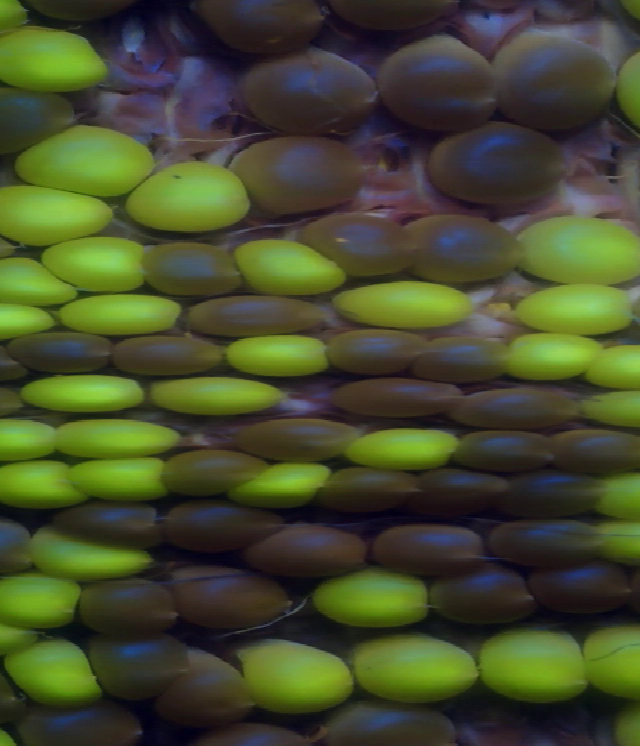fluorescent: (226, 631, 355, 715), (476, 626, 592, 709), (342, 632, 481, 700), (127, 163, 249, 234), (17, 129, 154, 191), (516, 223, 640, 288), (0, 22, 108, 96), (507, 279, 640, 338), (1, 638, 107, 711), (331, 279, 477, 331), (26, 522, 157, 579), (55, 289, 189, 342), (0, 180, 113, 240), (16, 371, 153, 417), (151, 372, 289, 416), (235, 238, 336, 298), (347, 421, 463, 473), (48, 237, 156, 292), (314, 572, 426, 623), (227, 332, 336, 383), (71, 456, 175, 509), (242, 460, 334, 516), (505, 333, 609, 381), (54, 418, 178, 458), (581, 620, 640, 704), (0, 570, 88, 626), (0, 459, 91, 506), (0, 416, 76, 471), (0, 257, 67, 306), (585, 340, 640, 390), (0, 303, 62, 347), (596, 472, 640, 521), (594, 521, 640, 565), (0, 605, 36, 661), (584, 395, 640, 429), (0, 1, 34, 39)
nonfluorescent: (424, 115, 551, 211), (380, 40, 500, 134), (240, 55, 382, 133), (488, 36, 616, 122), (79, 620, 191, 705), (165, 559, 293, 627), (408, 215, 527, 283), (157, 651, 262, 727), (198, 1, 334, 59), (236, 144, 363, 206), (313, 206, 421, 278), (73, 575, 184, 635), (245, 525, 376, 575), (367, 526, 498, 571), (454, 390, 584, 433), (192, 297, 333, 336), (334, 381, 465, 422), (527, 566, 636, 615), (159, 505, 277, 550), (144, 243, 240, 296), (8, 329, 125, 372), (330, 706, 455, 746), (430, 569, 537, 615), (320, 464, 420, 513), (54, 498, 166, 541), (488, 521, 608, 561), (501, 472, 612, 515), (457, 430, 564, 473), (115, 331, 227, 372), (166, 450, 260, 495), (332, 328, 427, 370), (410, 476, 507, 517), (549, 430, 640, 473), (0, 91, 75, 143), (419, 337, 510, 379), (243, 421, 355, 454), (0, 653, 32, 727), (0, 518, 46, 569), (0, 343, 30, 380)
